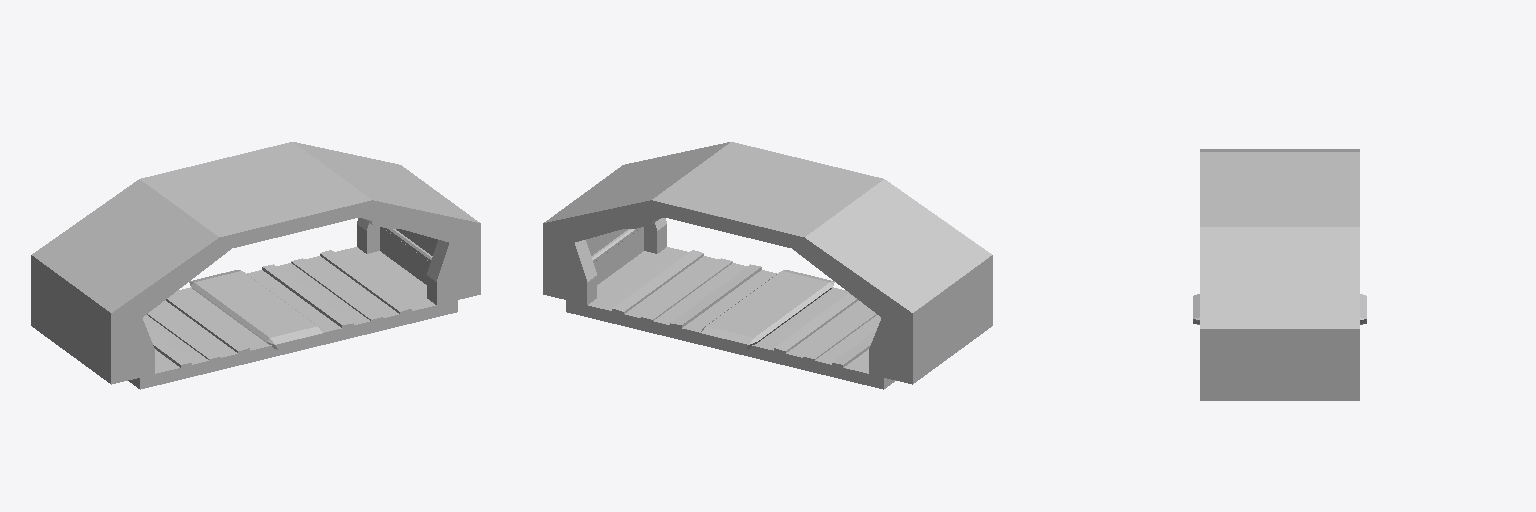
The model's file is subwayroom03.obj.
3 renders of one model, left to right at view 1: azimuth 30°, elevation 25°; view 2: azimuth 150°, elevation 25°; view 3: azimuth 270°, elevation 25°, orthographic.
Visible parts, largest first — view 1: tube, cuboid, beveled_cuboid; view 2: tube, cuboid, beveled_cuboid; view 3: tube.
Boxes of the visible parts, x1,y1,x2,y2 form: tube: [31, 142, 480, 384]; cuboid: [128, 247, 457, 389]; beveled_cuboid: [189, 270, 322, 349]; tube: [543, 142, 992, 384]; cuboid: [566, 247, 895, 389]; beveled_cuboid: [701, 270, 834, 349]; tube: [1200, 149, 1359, 399].
Size of the model in its own units: 4 by 1.38 by 1.62.